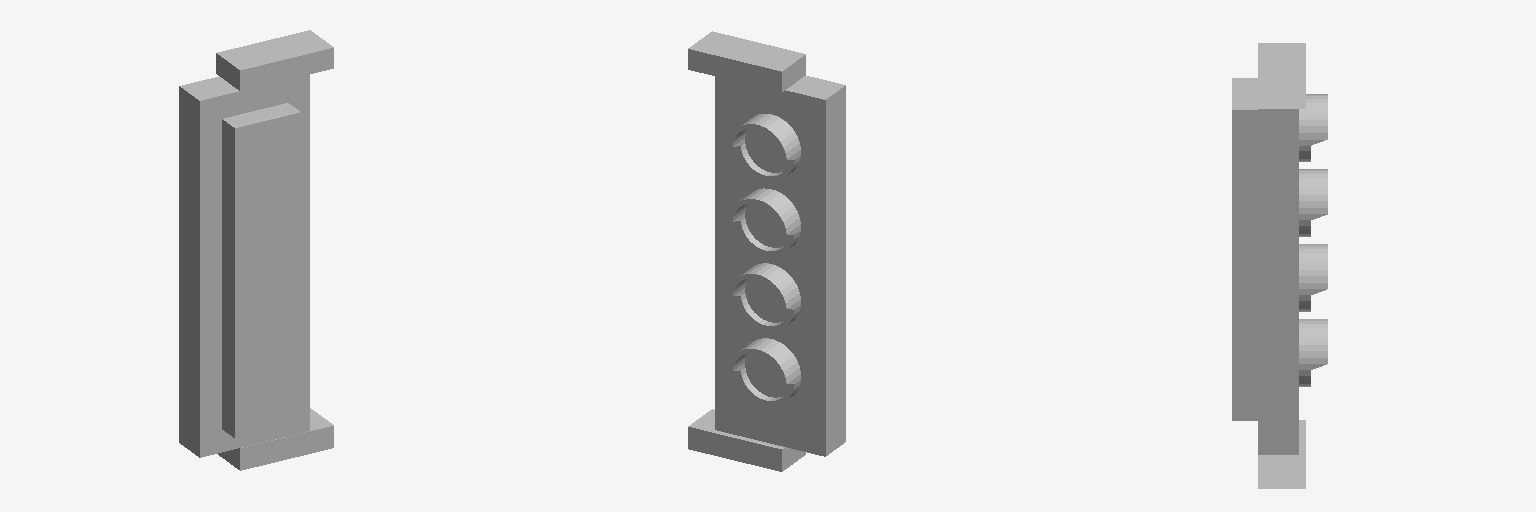
The model's file is advtrains_signals_muc_ubahn_wsig_l.obj.
3 renders of one model, left to right at view 1: azimuth 30°, elevation 25°; view 2: azimuth 150°, elevation 25°; view 3: azimuth 270°, elevation 25°, orthographic.
Parts seen in each view (by area): view 1: Cube; view 2: Cube; view 3: Cube.
Part boxes in pixels (left/top/right/bottom): Cube: left=179, top=30, right=333, bottom=470; Cube: left=688, top=31, right=845, bottom=471; Cube: left=1232, top=43, right=1327, bottom=488.
Bounding box in the file's own units: 0.2813 × 0.8023 × 0.1731.